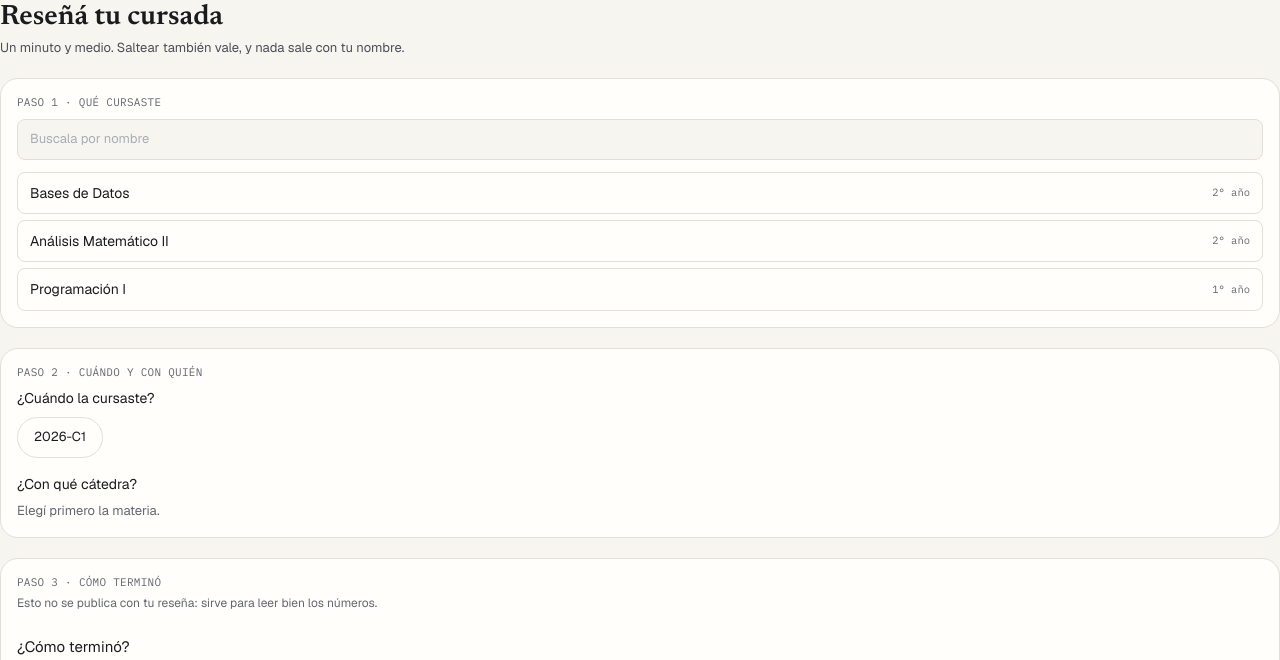
US-159: que ningún cruce me identifique › cátedra ya publicada: dice sus voces en vez de cuánto le falta
Click the button "Análisis Matemático II 2° año" at (99, 241), box [17,220,1263,262]
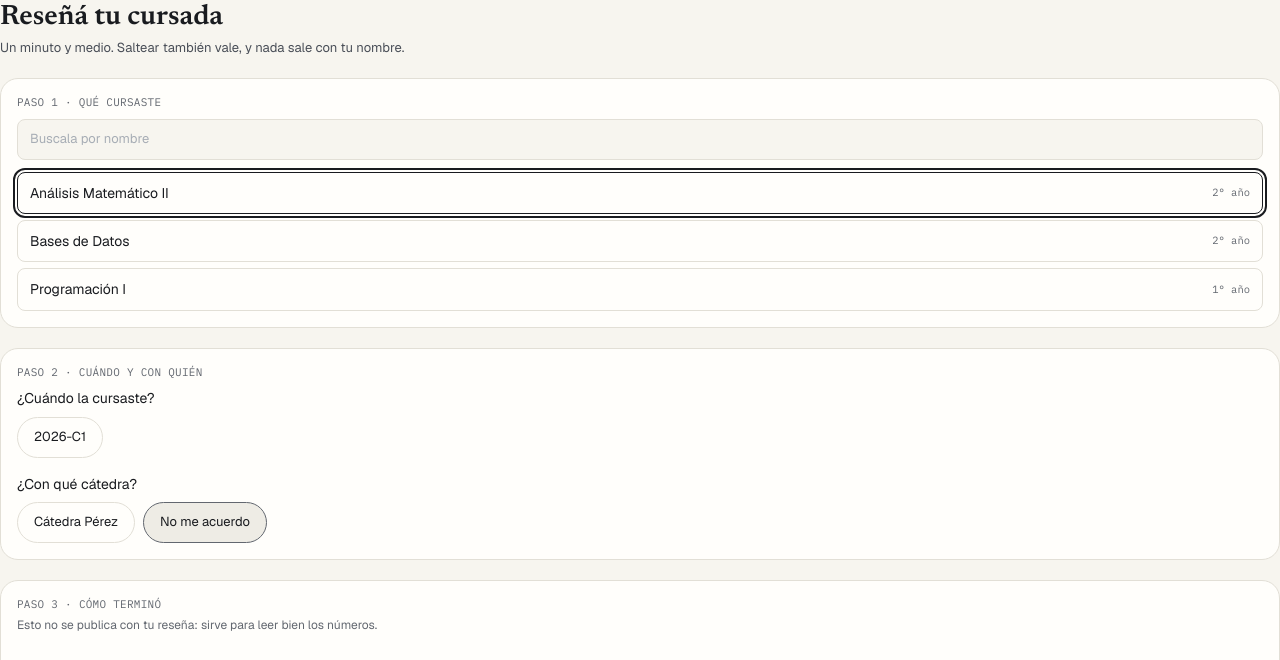
Click the button "Cátedra Pérez" at (76, 522), box [17,502,135,543]
(page scrolled)
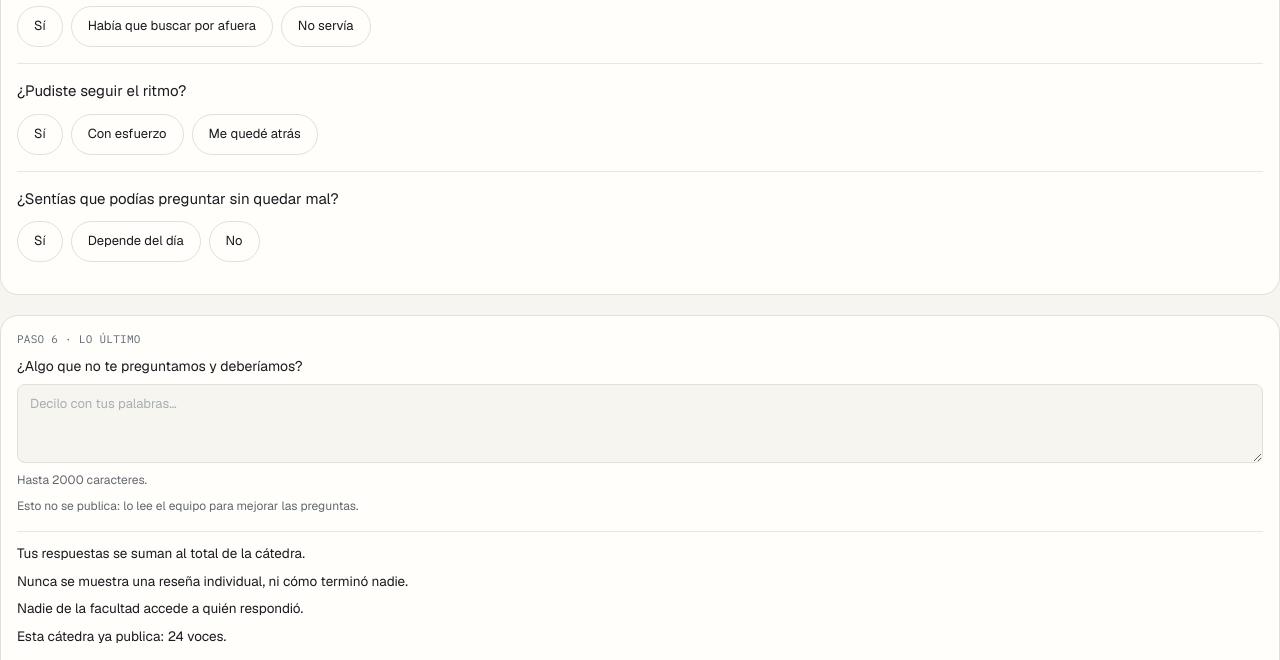
expect the list item "Esta cátedra ya publica: 24 voces." is shown: met, box [17,627,226,645]
